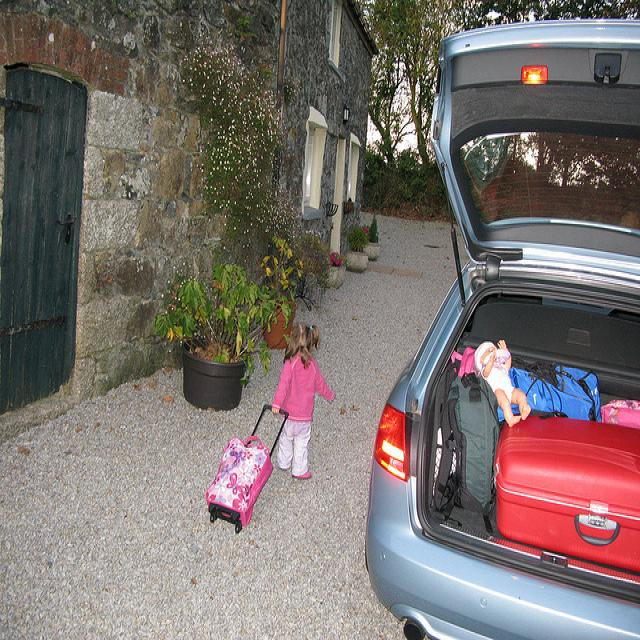Vehicle: (366, 24, 640, 633)
